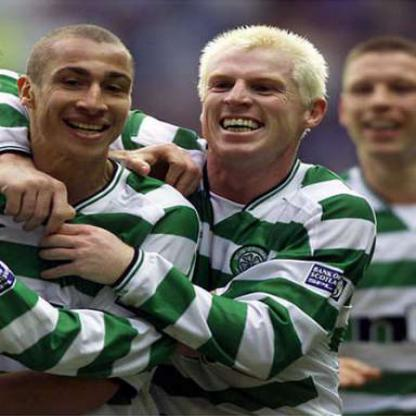face: (199, 30, 312, 168), (35, 28, 141, 164)
